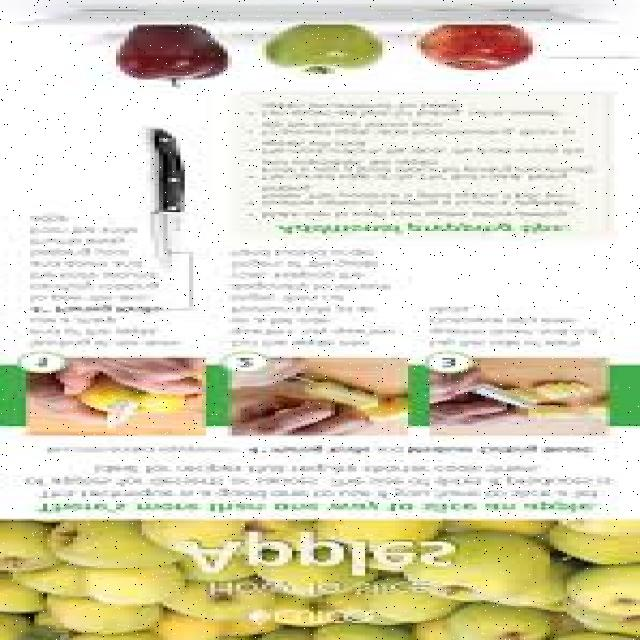Apple: (119, 20, 235, 85), (258, 23, 387, 70), (422, 24, 531, 74)
